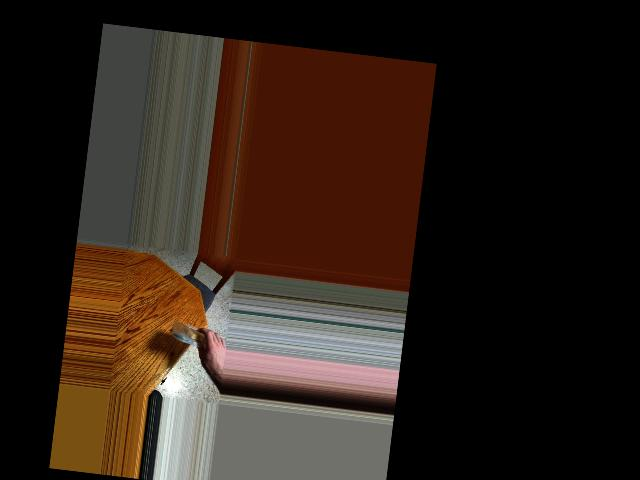cheese: (172, 320, 208, 355)
